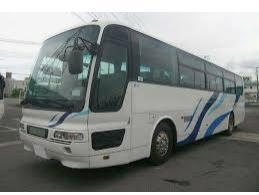bus: (25, 25, 244, 167)
